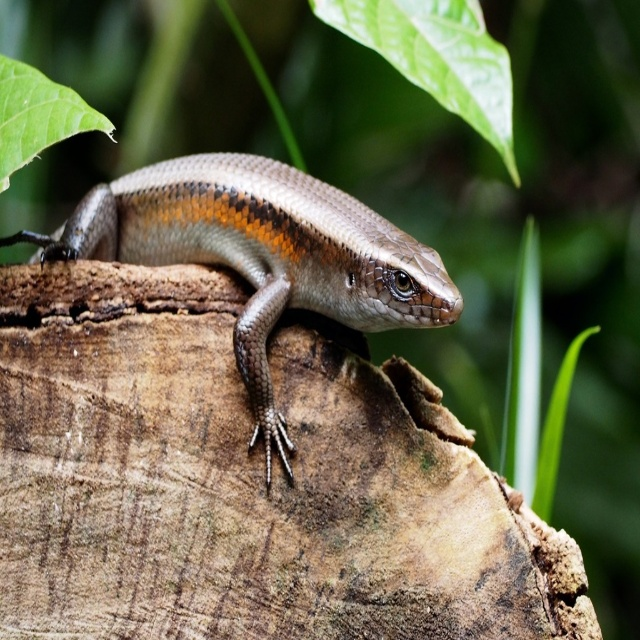Lizard: (28, 152, 464, 493)
